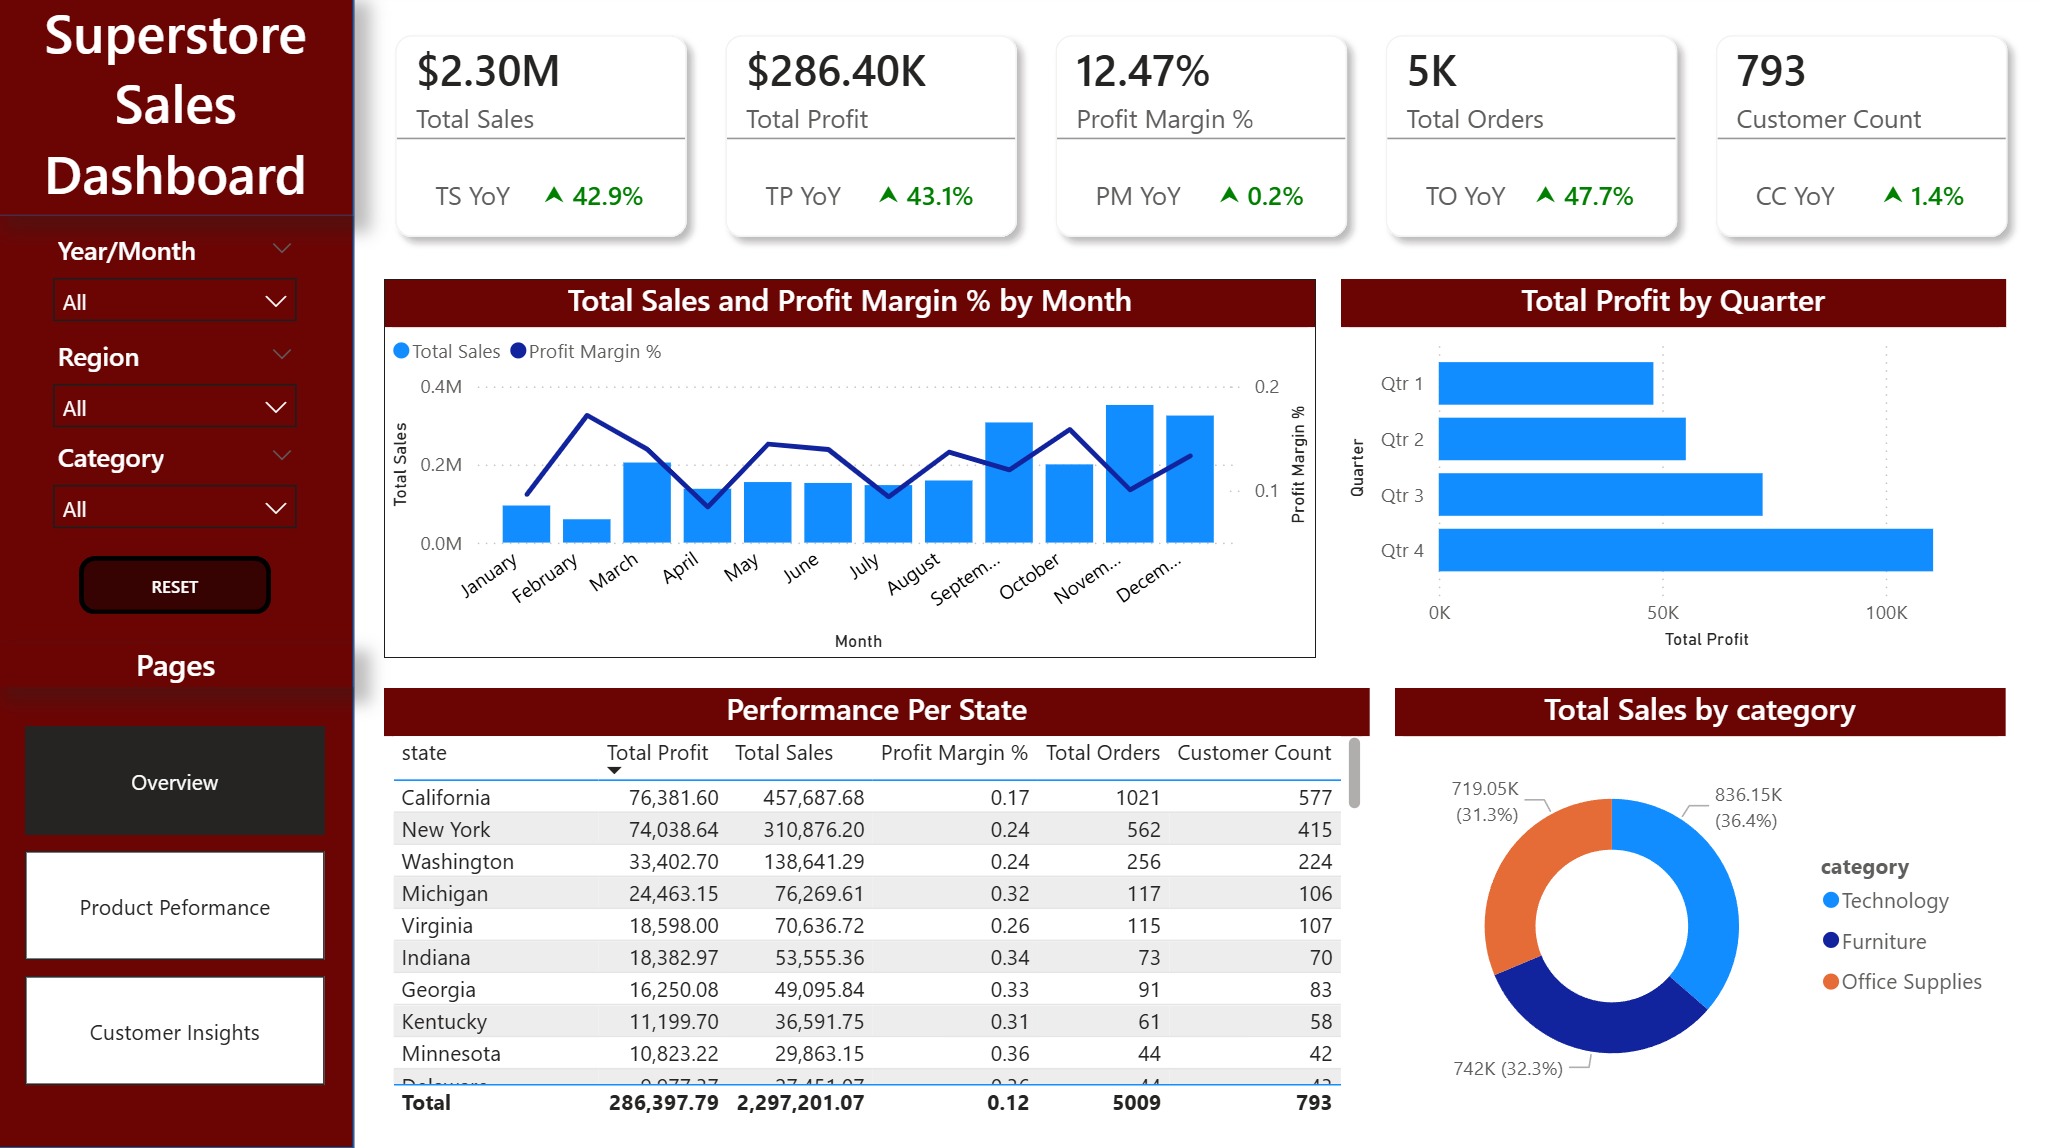

The page's visual inventory and layout, read from the dashboard file:
{"tool":"powerbi","page":{"name":"Overview","canvas":[1280,720],"ordinal":0},"visuals":[{"type":"shape","box":[0,0,222.9,719.8],"z":0},{"type":"cardVisual","title":"dad","fields":{"Data":["bi fact_orders.Total Sales","bi fact_orders.Total Profit","bi fact_orders.Profit Margin %","bi fact_orders.Total Orders","bi fact_orders.Customer Count"]},"box":[223.1,0,1056.9,176.7],"z":1000},{"type":"shape","title":"Superstore Sales Dashboard","box":[0,0,222.9,137.5],"z":2000},{"type":"lineStackedColumnComboChart","fields":{"Category":["bi dim_date.date_value.Variation.Date Hierarchy.Month"],"Y":["bi fact_orders.Total Sales"],"Y2":["bi fact_orders.Profit Margin %"]},"box":[241.7,177.1,581.2,236.5],"z":3000},{"type":"tableEx","title":"Performance Per State","fields":{"Values":["bi dim_geography.state","bi fact_orders.Total Profit","bi fact_orders.Total Sales","bi fact_orders.Profit Margin %","bi fact_orders.Total Orders","bi fact_orders.Customer Count"]},"box":[241.7,432.2,614.8,272.2],"z":4000},{"type":"slicer","fields":{"Values":["bi dim_date.date_value.Variation.Date Hierarchy.Year","bi dim_date.date_value.Variation.Date Hierarchy.Month"]},"box":[25,143.8,171.9,65.6],"z":5000},{"type":"slicer","fields":{"Values":["bi dim_geography.region"]},"box":[25,209.4,171.9,63.5],"z":6000},{"type":"slicer","fields":{"Values":["bi dim_product.category"]},"box":[25,272.9,171.9,65.6],"z":7000},{"type":"actionButton","box":[51,350,119.8,36.5],"z":8000},{"type":"shape","title":"Pages","box":[0,405.2,222.9,27.1],"z":9000},{"type":"pageNavigator","box":[17.7,456.2,187.5,225],"z":10000},{"type":"donutChart","fields":{"Y":["bi fact_orders.Total Sales"],"Category":["bi dim_product.category"]},"box":[872.2,432.4,380.6,272],"z":11000},{"type":"clusteredBarChart","fields":{"Category":["bi dim_date.date_value.Variation.Date Hierarchy.Quarter","bi dim_product.category"],"Y":["bi fact_orders.Total Profit"]},"box":[838.5,177.1,414.6,235.4],"z":12000}]}

Visuals, with their boxes in screenshot pixels (x1, y1, x2, y2), scaled from the page's 1280x720 canvas onto the 2045x1148 screenshot:
shape: [0,0,356,1147]
"dad" cardVisual: [356,0,2044,282]
"Superstore Sales Dashboard" shape: [0,0,356,219]
lineStackedColumnComboChart - bi dim_date.date_value.Variation.Date Hierarchy.Month x bi fact_orders.Total Sales: [386,282,1315,659]
"Performance Per State" tableEx: [386,689,1368,1123]
slicer - bi dim_date.date_value.Variation.Date Hierarchy.Year x bi dim_date.date_value.Variation.Date Hierarchy.Month: [40,229,315,334]
slicer - bi dim_geography.region: [40,334,315,435]
slicer - bi dim_product.category: [40,435,315,540]
actionButton: [81,558,273,616]
"Pages" shape: [0,646,356,689]
pageNavigator: [28,727,328,1086]
donutChart - bi fact_orders.Total Sales x bi dim_product.category: [1393,689,2002,1123]
clusteredBarChart - bi dim_date.date_value.Variation.Date Hierarchy.Quarter x bi dim_product.category: [1340,282,2002,658]
